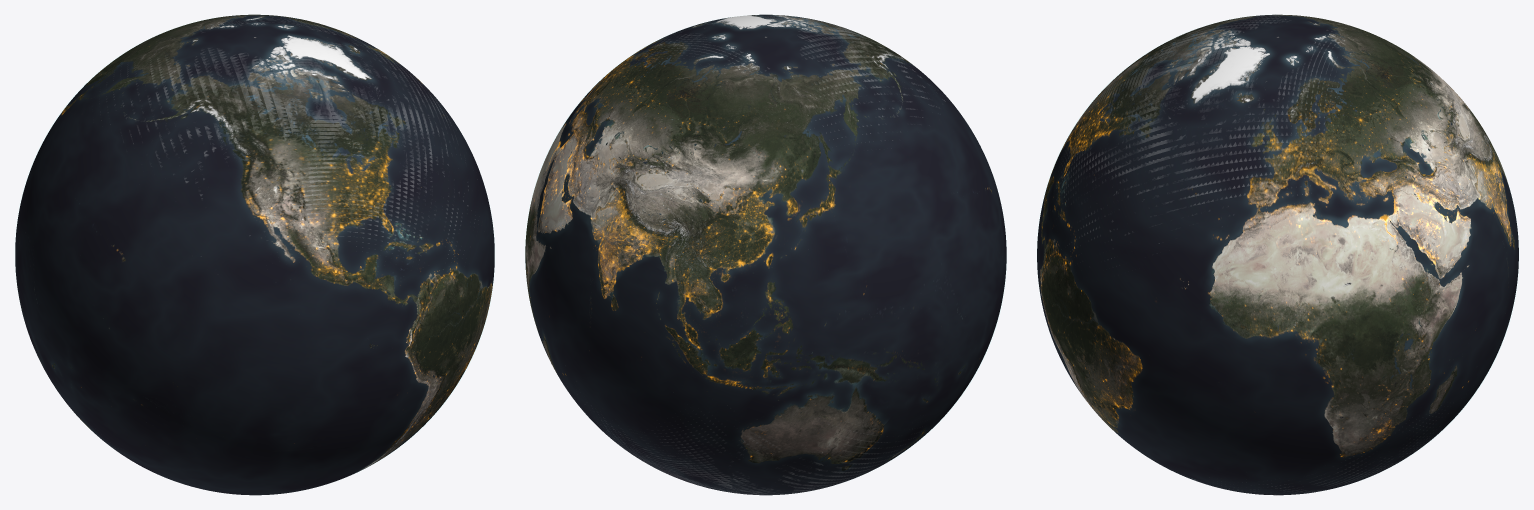
3 views of the same model, side by side, from view 1: azimuth 30°, elevation 25°; view 2: azimuth 150°, elevation 25°; view 3: azimuth 270°, elevation 25° (orthographic).
Visible parts, largest first — view 1: Earth_Geo2, Clouds_Geo2, Atmosphere_Geo2; view 2: Earth_Geo2, Clouds_Geo2, Atmosphere_Geo2; view 3: Earth_Geo2, Clouds_Geo2, Atmosphere_Geo2.
Boxes of the visible parts, box(x1,y1,x2,y2) form: Earth_Geo2: box(15, 14, 494, 495); Clouds_Geo2: box(131, 31, 467, 250); Atmosphere_Geo2: box(14, 14, 495, 495); Earth_Geo2: box(525, 14, 1006, 495); Clouds_Geo2: box(662, 16, 944, 494); Atmosphere_Geo2: box(524, 14, 1007, 495); Earth_Geo2: box(1037, 14, 1518, 495); Clouds_Geo2: box(1066, 18, 1429, 482); Atmosphere_Geo2: box(1036, 14, 1519, 495).
Size of the model in its own units: 1.04 by 1.04 by 1.04.
9 materials, 8 textured.
